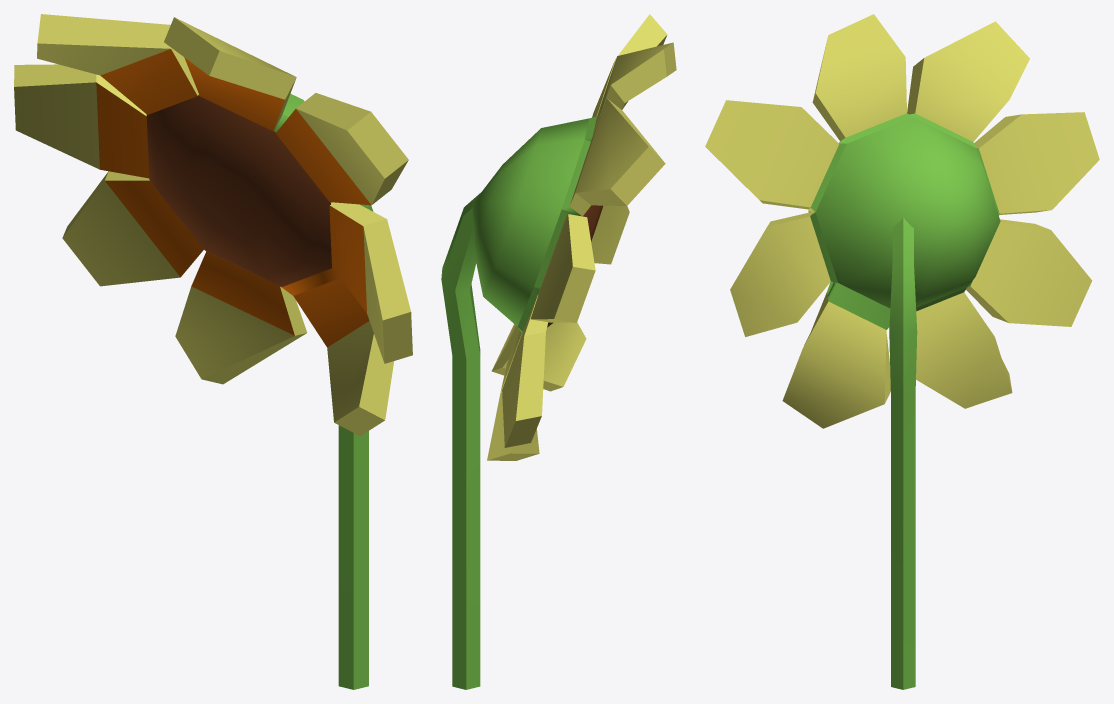
The model's file is sunflower.fbx.
The picture shows the model from 3 angles, left to right: view 1: azimuth 30°, elevation 25°; view 2: azimuth 150°, elevation 25°; view 3: azimuth 270°, elevation 25°; orthographic projection. The views are drawn at different scales.
Parts seen in each view (by area): view 1: pCylinder9; view 2: pCylinder9; view 3: pCylinder9.
Boxes of the visible parts, x1,y1,x2,y2 form: pCylinder9: [14, 14, 412, 689]; pCylinder9: [441, 14, 676, 689]; pCylinder9: [705, 14, 1099, 689].
Size of the model in its own units: 1.68 by 3.98 by 2.4.
